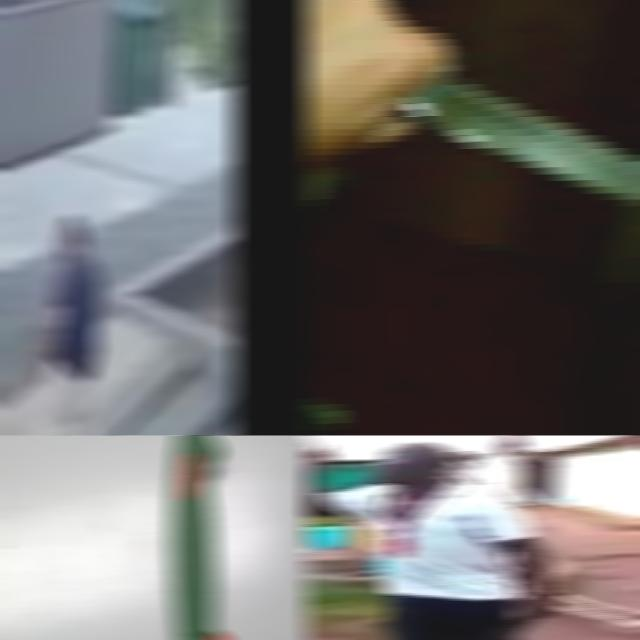Knife: (169, 435, 230, 640), (475, 614, 540, 640)
Knife_Handle: (303, 0, 640, 209), (474, 600, 556, 640)
